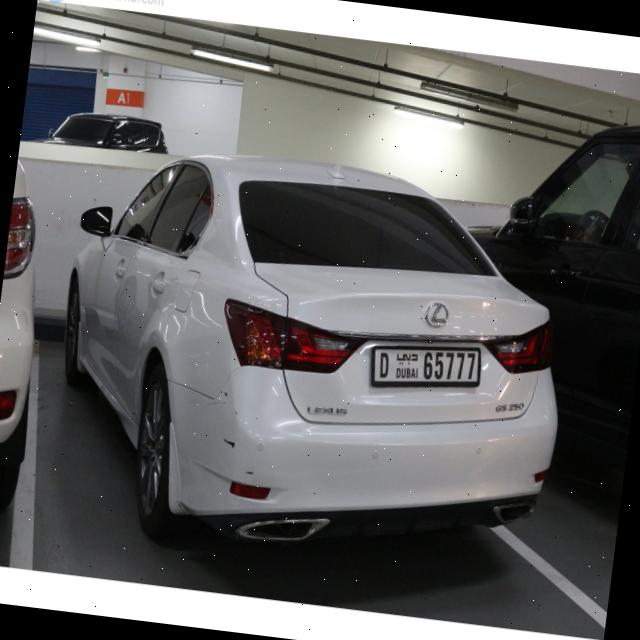License-plate: (369, 333, 487, 398)
